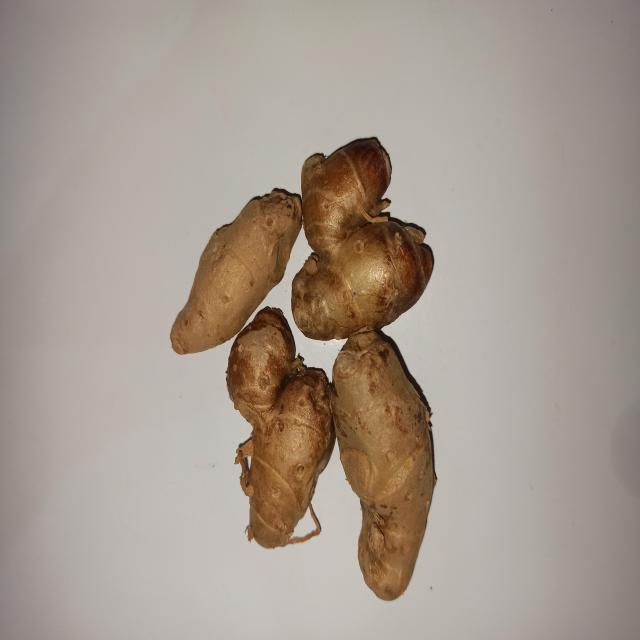ginger: (182, 149, 462, 592)
